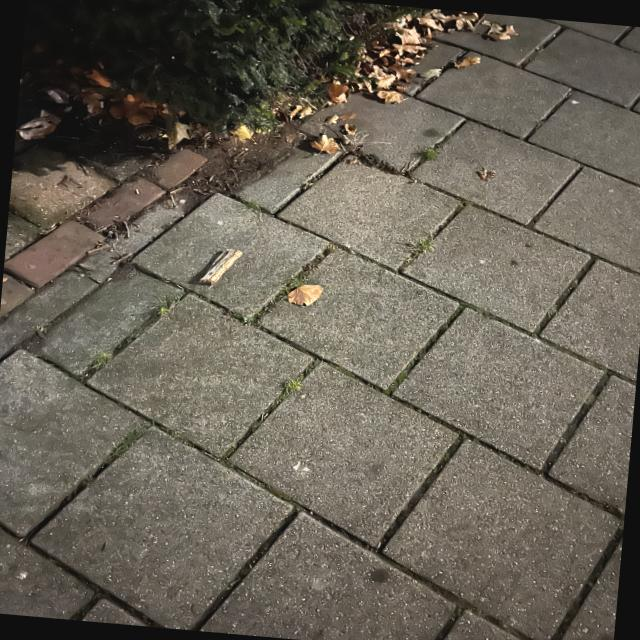leaves: (275, 9, 523, 122)
pavement: (0, 17, 639, 639)
